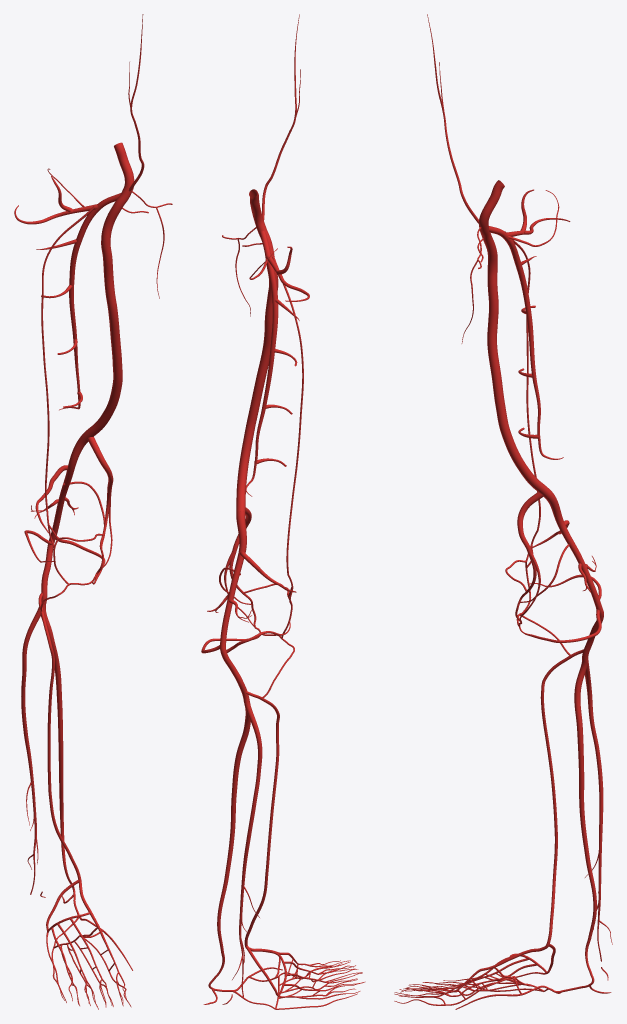
The model's file is circulatorio-femoral-artery-r.glb.
3 renders of one model, left to right at view 1: azimuth 30°, elevation 25°; view 2: azimuth 150°, elevation 25°; view 3: azimuth 270°, elevation 25°, orthographic. The views are drawn at different scales.
Visible parts, largest first — view 1: Femoral artery.r, Posterior tibial artery.r, Fibular artery.r, Popliteal artery.r, Deep femoral artery.r, Anterior tibial artery.r, Superior medial genicular artery.r, Descending branch of lateral circumflex femoral artery, Patellar anastomosis.r, Dorsal metatarsal arteries.r, Lateral circumflex femoral artery.r, Superficial epigastric artery.r (+2 smaller); view 2: Femoral artery.r, Posterior tibial artery.r, Popliteal artery.r, Fibular artery.r, Deep femoral artery.r, Anterior tibial artery.r, Descending branch of lateral circumflex femoral artery, Proper plantar digital arteries.r, Superior medial genicular artery.r, Patellar anastomosis.r, Superficial epigastric artery.r, Dorsal digital arteries of foot.r (+1 smaller); view 3: Femoral artery.r, Posterior tibial artery.r, Deep femoral artery.r, Fibular artery.r, Popliteal artery.r, Anterior tibial artery.r, Superior medial genicular artery.r, Descending branch of lateral circumflex femoral artery, Patellar anastomosis.r, Superficial epigastric artery.r, Dorsal digital arteries of foot.r, Proper plantar digital arteries.r.
Boxes of the visible parts, <box> form: Femoral artery.r: <box>82,142,134,441</box>; Posterior tibial artery.r: <box>40,605,79,914</box>; Fibular artery.r: <box>21,606,40,894</box>; Popliteal artery.r: <box>41,435,88,605</box>; Deep femoral artery.r: <box>59,193,120,410</box>; Anterior tibial artery.r: <box>38,592,81,880</box>; Superior medial genicular artery.r: <box>63,436,113,571</box>; Descending branch of lateral circumflex femoral artery: <box>41,206,95,508</box>; Patellar anastomosis.r: <box>40,508,104,611</box>; Dorsal metatarsal arteries.r: <box>51,918,118,981</box>; Lateral circumflex femoral artery.r: <box>14,176,97,224</box>; Superficial epigastric artery.r: <box>128,14,144,191</box>; Femoral artery.r: <box>236,189,278,511</box>; Posterior tibial artery.r: <box>208,701,250,991</box>; Popliteal artery.r: <box>220,511,249,702</box>; Fibular artery.r: <box>232,701,262,997</box>; Deep femoral artery.r: <box>245,231,278,496</box>; Anterior tibial artery.r: <box>244,691,279,946</box>; Descending branch of lateral circumflex femoral artery: <box>272,256,303,575</box>; Proper plantar digital arteries.r: <box>275,962,365,1009</box>; Superior medial genicular artery.r: <box>219,507,253,626</box>; Patellar anastomosis.r: <box>243,575,294,698</box>; Superficial epigastric artery.r: <box>262,14,300,219</box>; Dorsal digital arteries of foot.r: <box>279,960,362,999</box>; Femoral artery.r: <box>479,180,551,497</box>; Posterior tibial artery.r: <box>564,660,596,991</box>; Deep femoral artery.r: <box>489,226,563,459</box>; Fibular artery.r: <box>585,660,612,961</box>; Popliteal artery.r: <box>545,491,603,662</box>; Anterior tibial artery.r: <box>540,649,583,945</box>; Superior medial genicular artery.r: <box>517,492,569,623</box>; Descending branch of lateral circumflex femoral artery: <box>505,231,540,530</box>; Patellar anastomosis.r: <box>505,530,570,655</box>; Superficial epigastric artery.r: <box>427,14,478,223</box>; Dorsal digital arteries of foot.r: <box>394,972,546,997</box>; Proper plantar digital arteries.r: <box>394,982,542,1005</box>.
Size of the model in its own units: 0.1412 by 1.06 by 0.2086.
